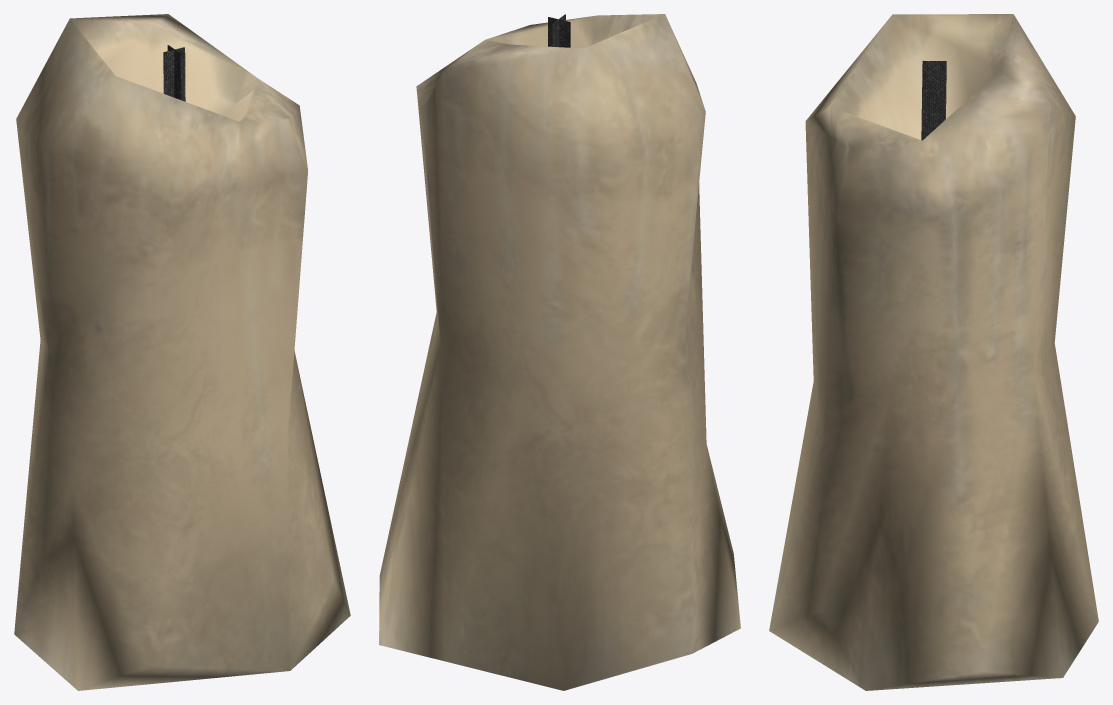
Rendered from SM_Candle_04.fbx.
3 views of the same model, side by side, from view 1: azimuth 30°, elevation 25°; view 2: azimuth 150°, elevation 25°; view 3: azimuth 270°, elevation 25° (orthographic). The views are drawn at different scales.
Parts seen in each view (by area): view 1: SM_Candle_04_LOD0; view 2: SM_Candle_04_LOD0; view 3: SM_Candle_04_LOD0.
Part boxes in pixels (bbox=[...]): SM_Candle_04_LOD0: bbox=[14, 14, 350, 690]; SM_Candle_04_LOD0: bbox=[379, 14, 740, 690]; SM_Candle_04_LOD0: bbox=[769, 14, 1098, 690].
Size of the model in its own units: 11.23 by 11.25 by 21.97.
1 material, 1 textured.
